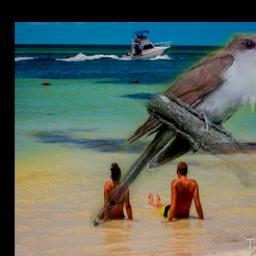Cuckoo: (89, 32, 256, 229)
